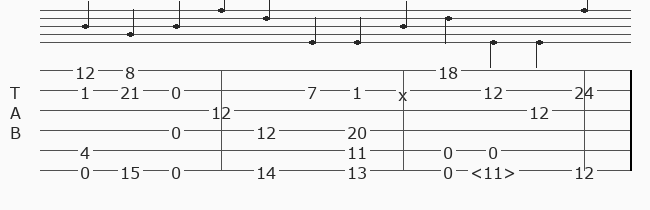0: (80, 162, 94, 178), (171, 122, 185, 138), (171, 82, 185, 98), (171, 162, 185, 178), (443, 162, 457, 178), (443, 142, 457, 158), (488, 142, 502, 158)
1: (80, 82, 94, 98), (352, 82, 366, 98)
11: (347, 142, 371, 158)
12: (75, 62, 99, 78), (211, 102, 235, 118), (256, 122, 280, 138), (483, 82, 507, 98), (529, 102, 553, 118), (574, 162, 598, 178)
13: (347, 162, 371, 178)
14: (256, 162, 280, 178)
15: (120, 162, 144, 178)
18: (438, 62, 462, 78)
20: (347, 122, 371, 138)
21: (120, 82, 144, 98)
24: (574, 82, 598, 98)
4: (80, 142, 94, 158)
7: (307, 82, 321, 98)
8: (125, 62, 139, 78)
harmonic: (470, 162, 520, 178)
x: (398, 84, 411, 97)
